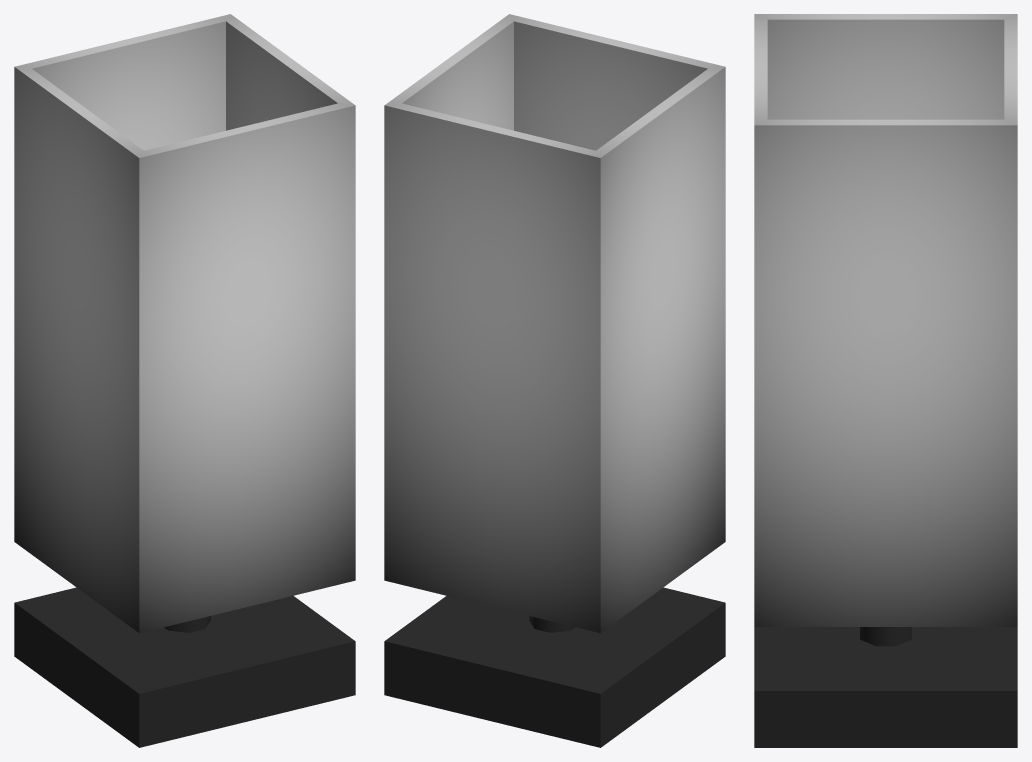
The model's file is TableLamp_05.fbx.
3 views of the same model, side by side, from view 1: azimuth 30°, elevation 25°; view 2: azimuth 150°, elevation 25°; view 3: azimuth 270°, elevation 25° (orthographic). The views are drawn at different scales.
Visible parts, largest first — view 1: TableLamp_05; view 2: TableLamp_05; view 3: TableLamp_05.
Part boxes in pixels (x1,y1,x2,y2): TableLamp_05: (14, 14, 355, 747); TableLamp_05: (384, 14, 725, 747); TableLamp_05: (754, 14, 1017, 747).
Bounding box in the file's own units: 0.119 × 0.3102 × 0.119.
